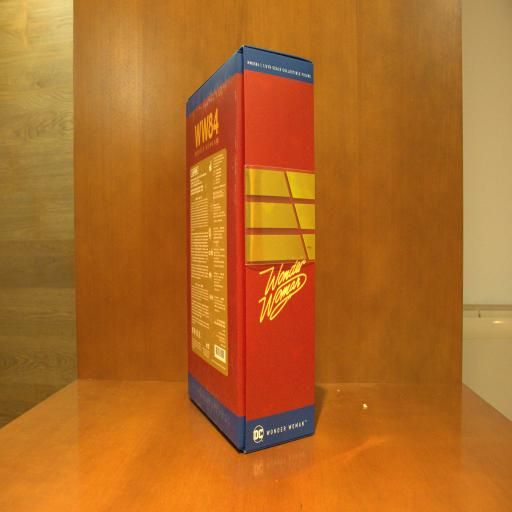WonderWoman: (184, 44, 318, 453)
